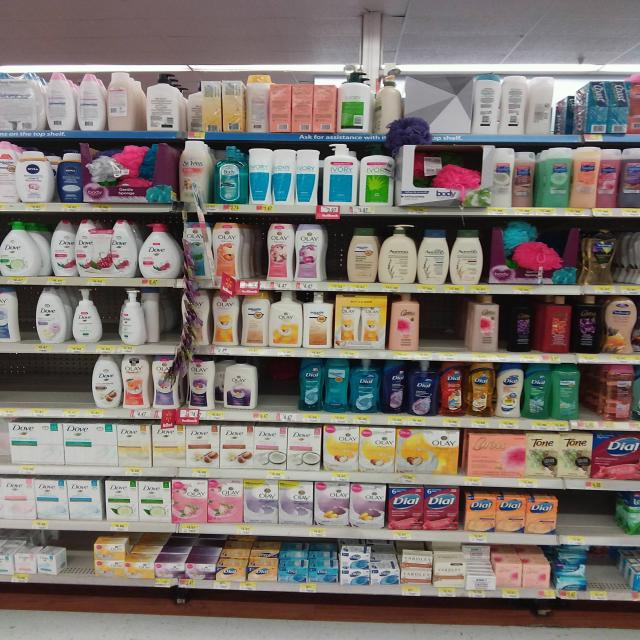empty: (5, 350, 94, 410), (553, 483, 625, 538), (416, 289, 468, 354), (254, 356, 304, 414), (317, 218, 350, 291), (579, 552, 629, 595), (240, 221, 270, 290), (54, 534, 94, 575)
